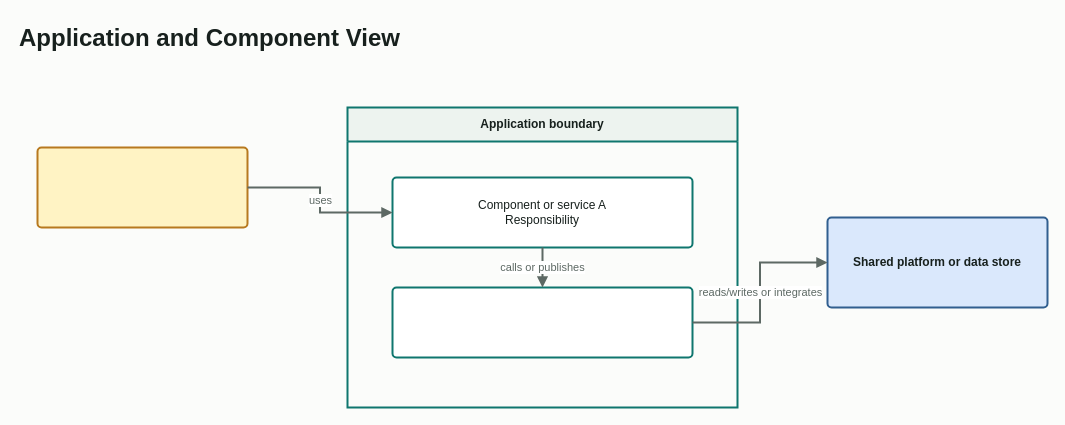
The diagram is 1065 pixels wide and 425 high, and some of its shapes have lost their labels. Here are the shapes that lost their labels. From the top down, the centre of each, then its label:
[142,187]: User interface or channel
[542,322]: Component or service B Responsibility
